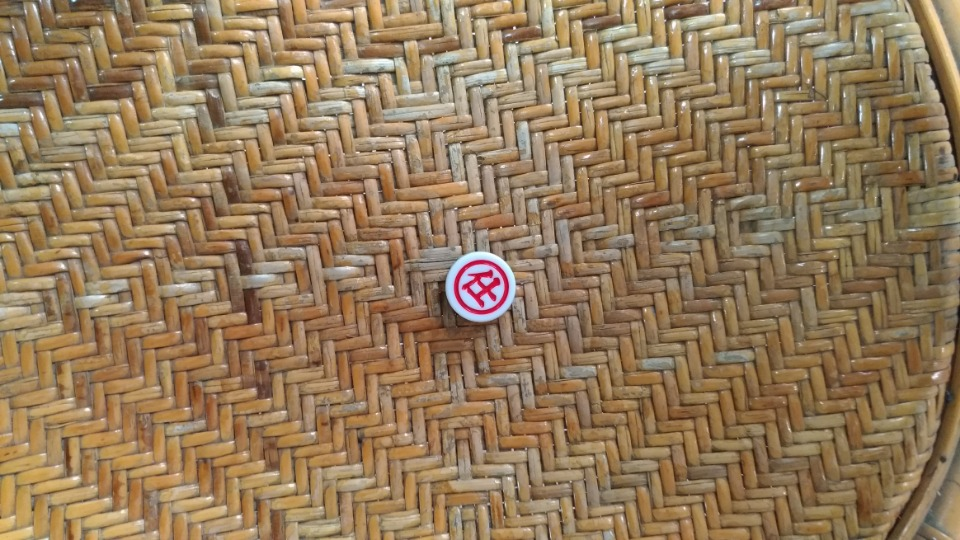r-advisor: (441, 245, 525, 325)
